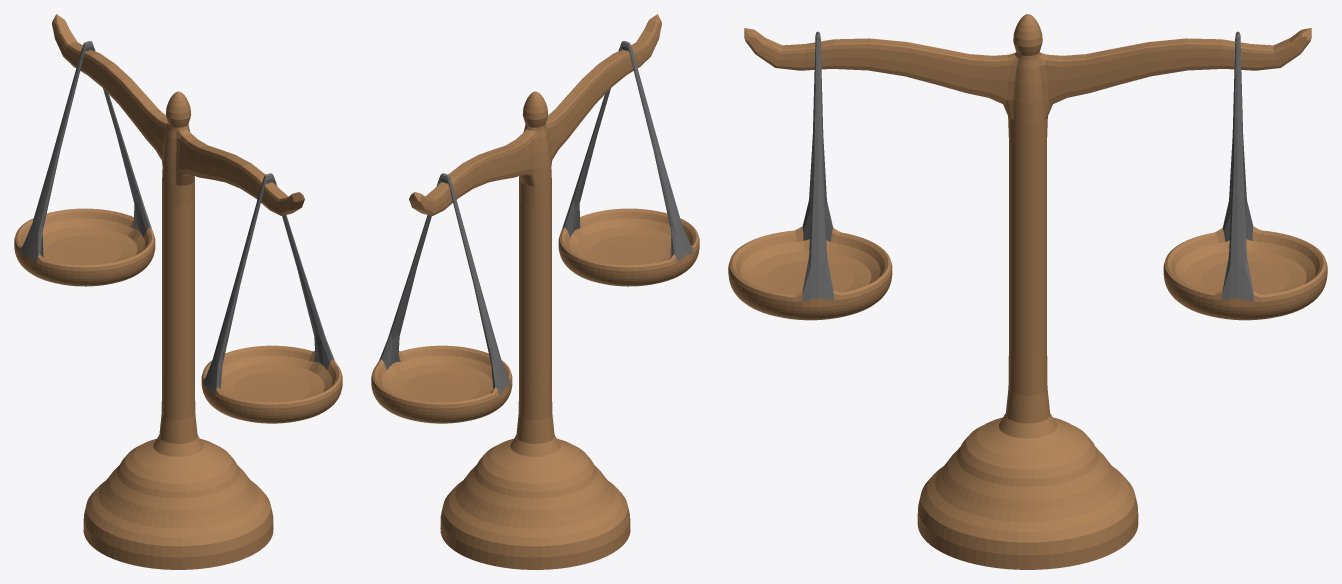
Rendered from hukuk.fbx.
3 views of the same model, side by side, from view 1: azimuth 30°, elevation 25°; view 2: azimuth 150°, elevation 25°; view 3: azimuth 270°, elevation 25° (orthographic). The views are drawn at different scales.
Visible parts, largest first — view 1: Circle.004; view 2: Circle.004; view 3: Circle.004.
Part boxes in pixels (bbox=[...]): Circle.004: bbox=[14, 14, 342, 569]; Circle.004: bbox=[371, 14, 699, 569]; Circle.004: bbox=[728, 14, 1327, 569].
Size of the model in its own units: 34.8 by 88.54 by 94.43.
